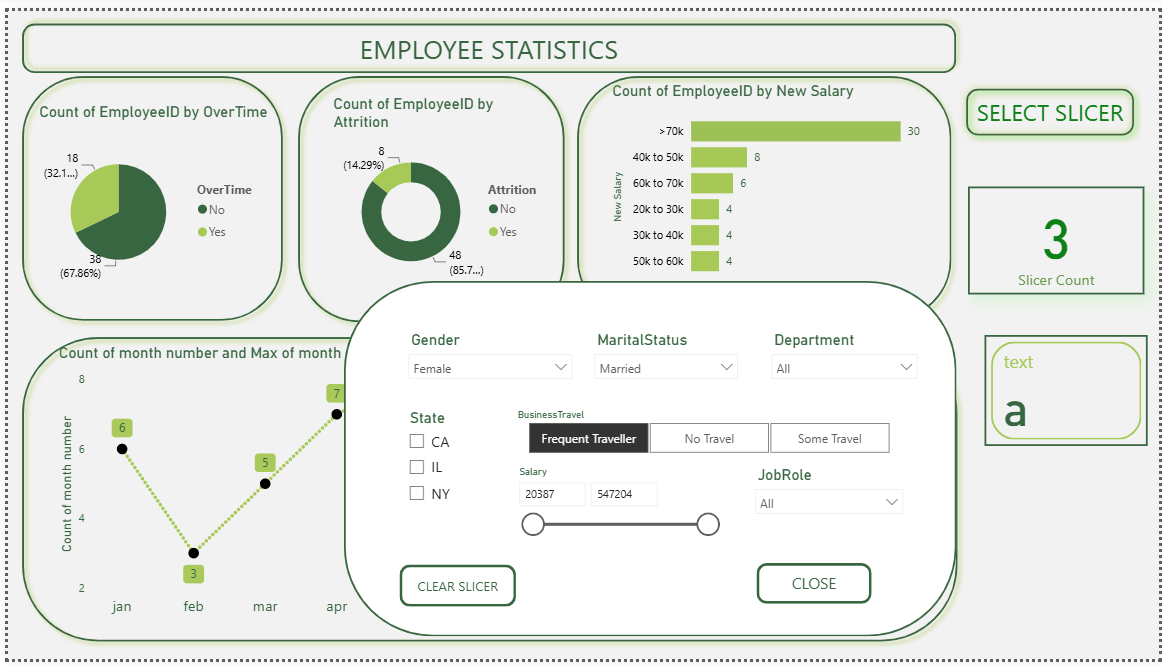

This screenshot's page, from the dashboard's own definition file:
{"tool":"powerbi","page":{"name":"Page 1","canvas":[1280,720],"ordinal":0},"visuals":[{"type":"lineChart","fields":{"Category":["Employee (2).month name"],"Y":["CountNonNull(Employee.month number)"]},"box":[51.8,369.2,986.1,325.5],"z":0},{"type":"donutChart","fields":{"Category":["Employee.Attrition"],"Y":["CountNonNull(Employee.EmployeeID)"]},"box":[356.2,93.9,252.6,220.2],"z":1000},{"type":"pieChart","fields":{"Category":["Employee.OverTime"],"Y":["CountNonNull(Employee.EmployeeID)"]},"box":[30.8,102,263.9,223.5],"z":2000},{"type":"clusteredBarChart","fields":{"Category":["Employee.New Salary"],"Y":["CountNonNull(Employee.EmployeeID)"]},"box":[667.1,77.7,357.8,260.7],"z":3000},{"type":"shape","box":[6.5,353,1057.4,356.2],"z":4000},{"type":"shape","box":[623.4,63.1,434,289.8],"z":5000},{"type":"shape","box":[6.5,63.1,307.7,289.8],"z":6000},{"type":"shape","box":[314.1,63.1,314.1,291.5],"z":7000},{"type":"actionButton","box":[1057.4,77.7,202.4,68],"z":8000},{"type":"card","fields":{"Values":["measure.Slicer Count"]},"box":[1067.1,194.3,195.9,119.8],"z":10000},{"type":"cardVisual","fields":{"Data":["measure.text"]},"box":[1084.9,359.5,181.4,123.1],"z":11000},{"type":"shape","box":[6.5,4.9,1055.7,72.9],"z":12000}]}

Visuals, with their boxes in screenshot pixels (x1, y1, x2, y2), scaled from the page's 1280x720 canvas onto the 1162x666 screenshot:
lineChart - Employee (2).month name x CountNonNull(Employee.month number): [47, 342, 942, 643]
donutChart - Employee.Attrition x CountNonNull(Employee.EmployeeID): [323, 87, 553, 291]
pieChart - Employee.OverTime x CountNonNull(Employee.EmployeeID): [28, 94, 268, 301]
clusteredBarChart - Employee.New Salary x CountNonNull(Employee.EmployeeID): [606, 72, 930, 313]
shape: [6, 327, 966, 656]
shape: [566, 58, 960, 326]
shape: [6, 58, 285, 326]
shape: [285, 58, 570, 328]
actionButton: [960, 72, 1144, 135]
card - measure.Slicer Count: [969, 180, 1147, 291]
cardVisual - measure.text: [985, 333, 1150, 446]
shape: [6, 5, 964, 72]
